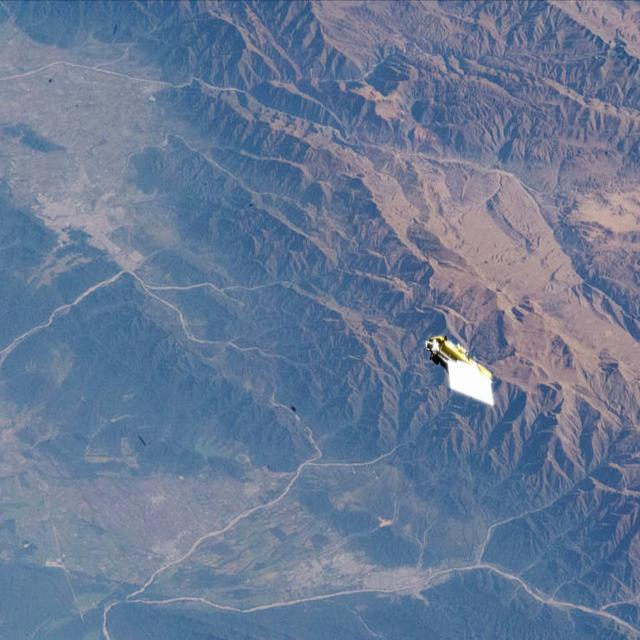satellite: (422, 328, 509, 413)
